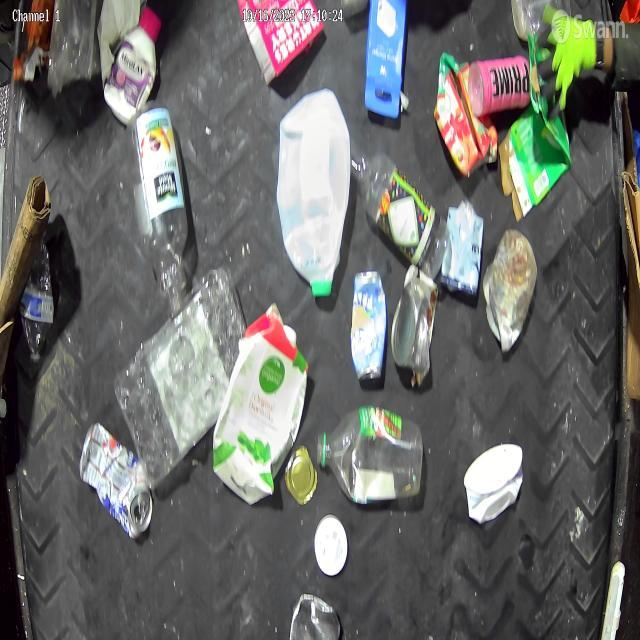can: (79, 422, 152, 538), (392, 262, 432, 368)
milk_jug: (278, 90, 350, 296)
plastic_bottle: (125, 102, 187, 310), (320, 406, 420, 492), (23, 248, 58, 362)
